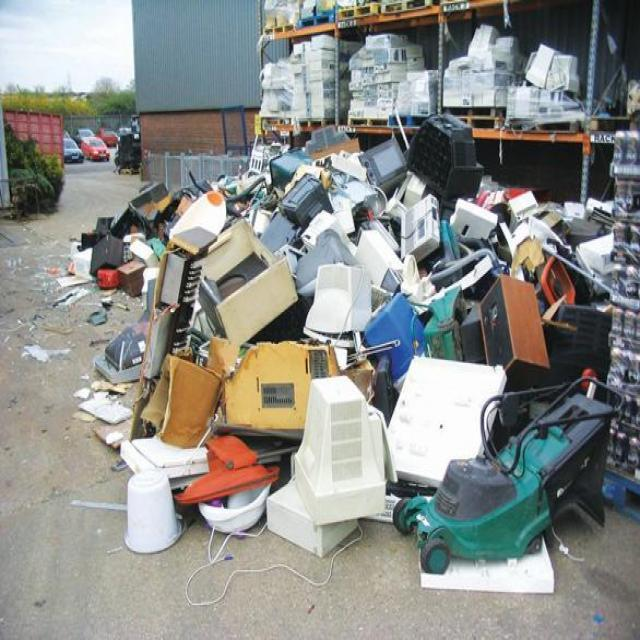garbage: (141, 187, 621, 557), (267, 5, 639, 138), (249, 111, 483, 200), (58, 175, 169, 298)
